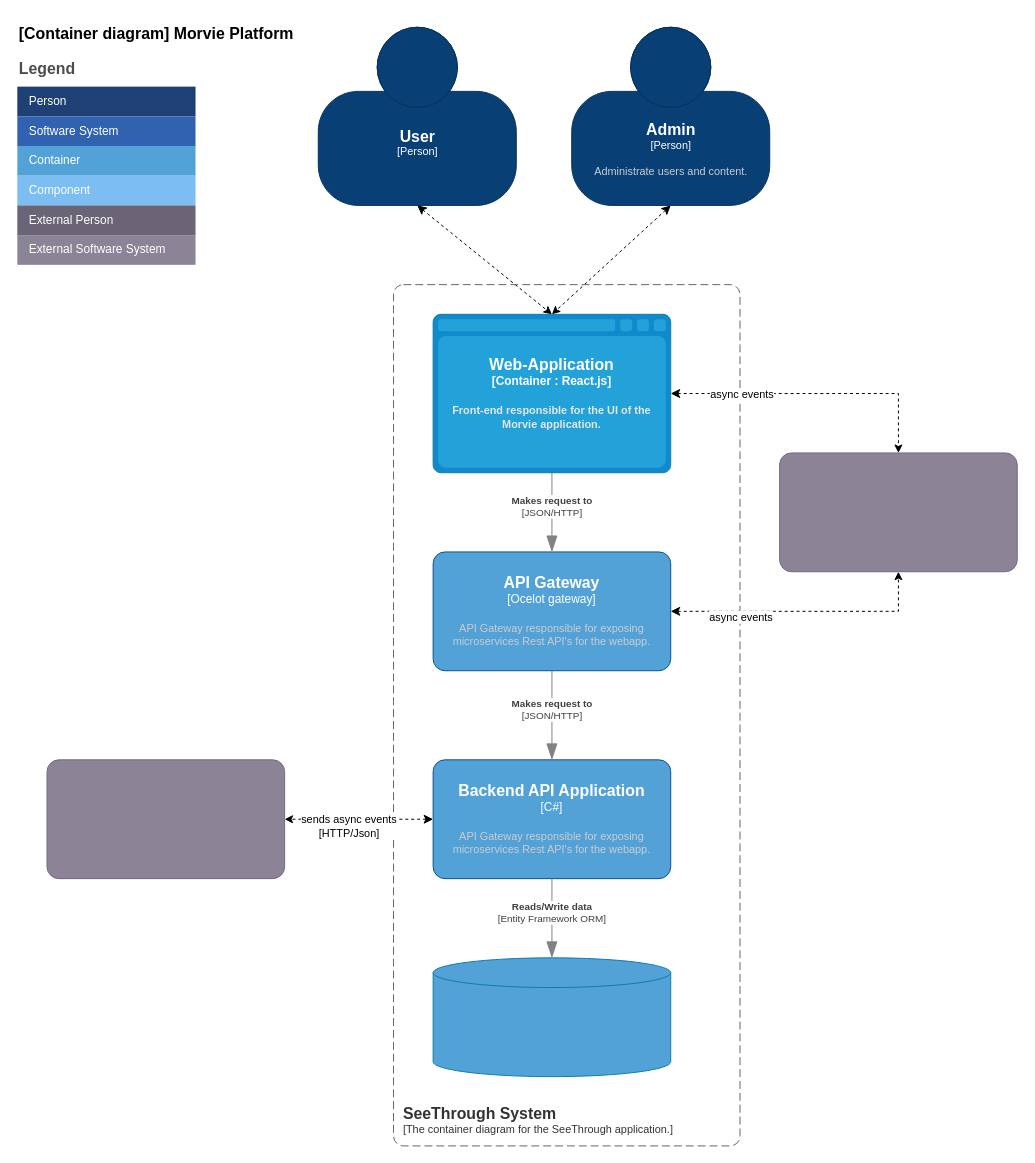
This 1035x1163 diagram has some shape labels left out. The shapes that lost their labels are listed below. From the top down, each one's box as (x1, y1, x2, y2) in pixels, then its label:
(779, 452, 1017, 572): Keycloak [Software System] Description of external software system.
(46, 759, 285, 879): TMDB [Software System] Description of external software system.
(432, 957, 671, 1077): Database [Database: Database providers] Stores thread messages and reviews
